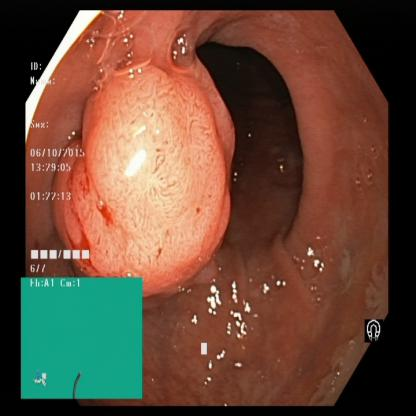Labels: (20, 280, 140, 398), (27, 60, 89, 274), (360, 310, 390, 347)
Polyps: (85, 76, 229, 274)
